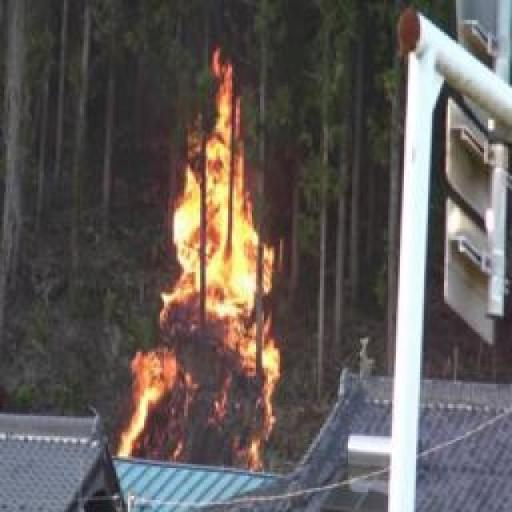smoke: (128, 55, 274, 470)
